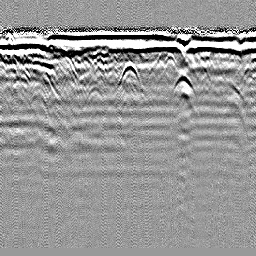cavity: (116, 60, 142, 87)
